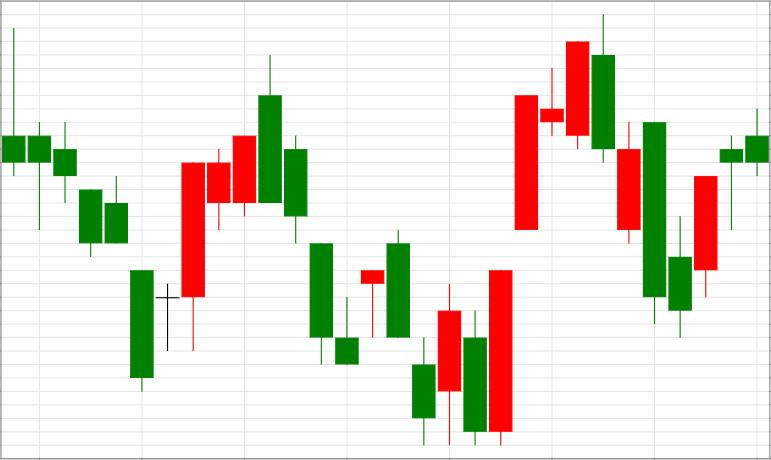bearish_engulfing_fall: (489, 14, 615, 444)
inverse_hammer_rise: (258, 54, 359, 364)
